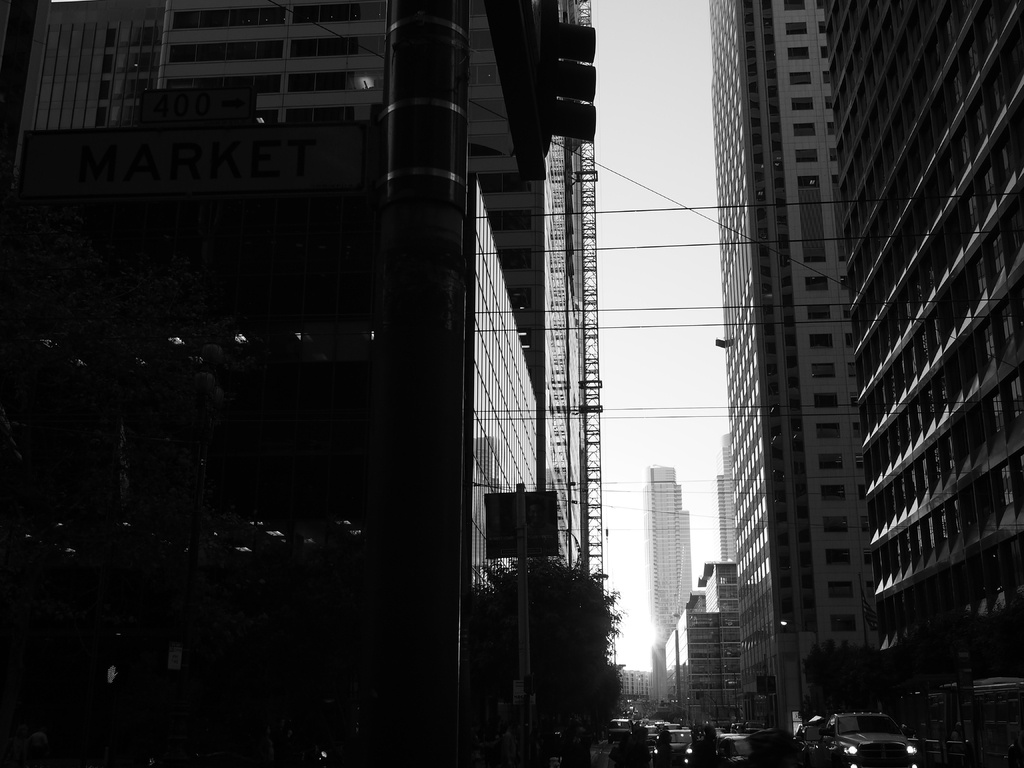Tree: (448, 529, 647, 723)
